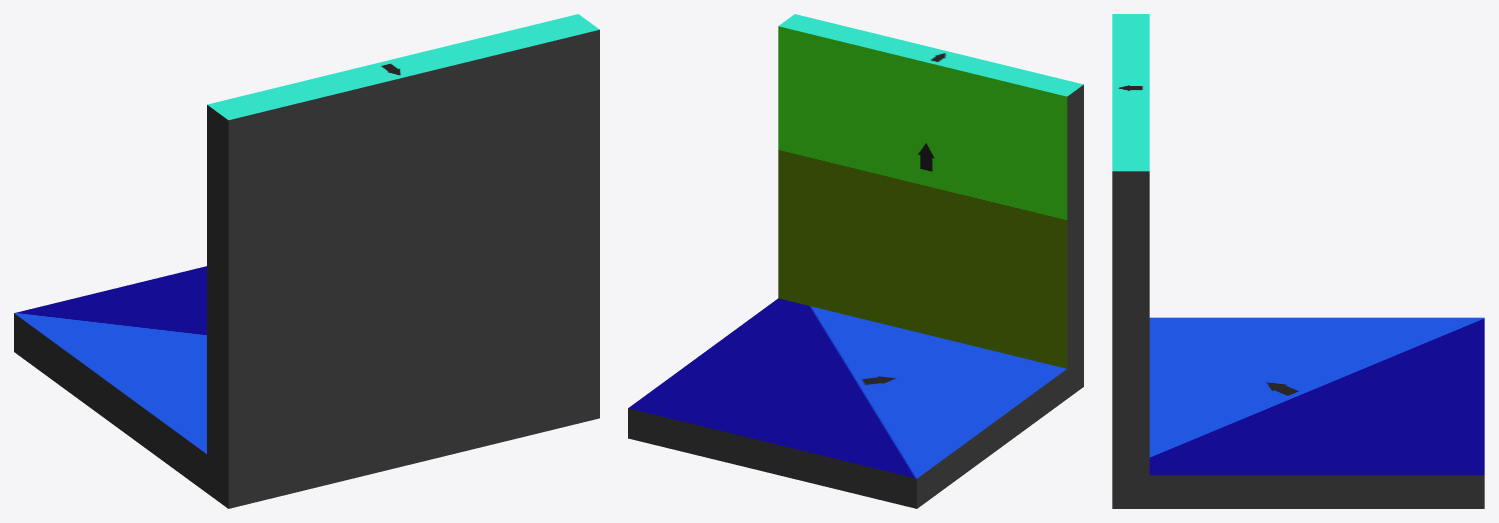
The model's file is room-middle.glb.
3 views of the same model, side by side, from view 1: azimuth 30°, elevation 25°; view 2: azimuth 150°, elevation 25°; view 3: azimuth 270°, elevation 25° (orthographic). The views are drawn at different scales.
Parts seen in each view (by area): view 1: BC.002; view 2: BC.002; view 3: BC.002.
Boxes of the visible parts, x1=… form: BC.002: x1=14, y1=14, x2=599, y2=508; BC.002: x1=628, y1=14, x2=1083, y2=508; BC.002: x1=1112, y1=14, x2=1484, y2=508.
Size of the model in its own units: 2 by 2 by 2.
1 material, 1 textured.
